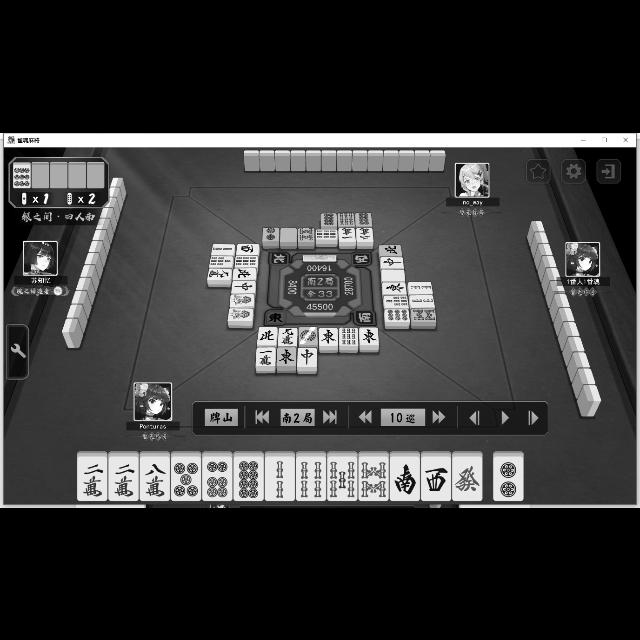1m: (256, 346, 276, 366), (338, 227, 356, 241)
1p: (298, 326, 318, 346)
1s: (229, 294, 255, 308), (227, 307, 253, 321)
2m: (77, 456, 107, 500), (108, 456, 138, 499), (356, 227, 374, 241)
2p: (494, 456, 524, 500), (262, 226, 280, 240)
2s: (266, 456, 294, 500), (408, 279, 434, 293), (410, 294, 434, 308), (212, 242, 234, 254)
4s: (296, 456, 326, 500)
5p: (172, 455, 200, 499)
5s: (329, 456, 357, 500)
6p: (203, 456, 231, 500)
6s: (338, 211, 354, 225)
7s: (382, 294, 410, 306), (210, 255, 234, 267)
8m: (140, 456, 170, 500)
8p: (234, 456, 262, 500), (356, 212, 372, 226), (322, 212, 336, 226)
8s: (358, 456, 388, 500), (412, 308, 436, 322), (298, 226, 314, 240)
9m: (278, 326, 298, 346), (208, 266, 230, 280)
9p: (13, 164, 31, 186), (384, 308, 408, 322)
9s: (339, 327, 359, 345), (234, 255, 258, 267), (316, 228, 338, 240), (316, 228, 338, 238)
chun: (296, 347, 316, 365), (379, 256, 405, 268), (231, 280, 257, 292)
haku: (380, 268, 406, 282), (280, 226, 296, 240)
hatsu: (452, 456, 482, 500)
nan: (391, 456, 421, 499)
pe: (257, 326, 277, 346), (232, 266, 255, 280), (378, 244, 402, 256)
sha: (421, 456, 451, 500), (236, 242, 258, 254)
tou: (277, 344, 297, 366), (318, 326, 338, 346), (359, 326, 378, 346), (382, 282, 406, 294)
